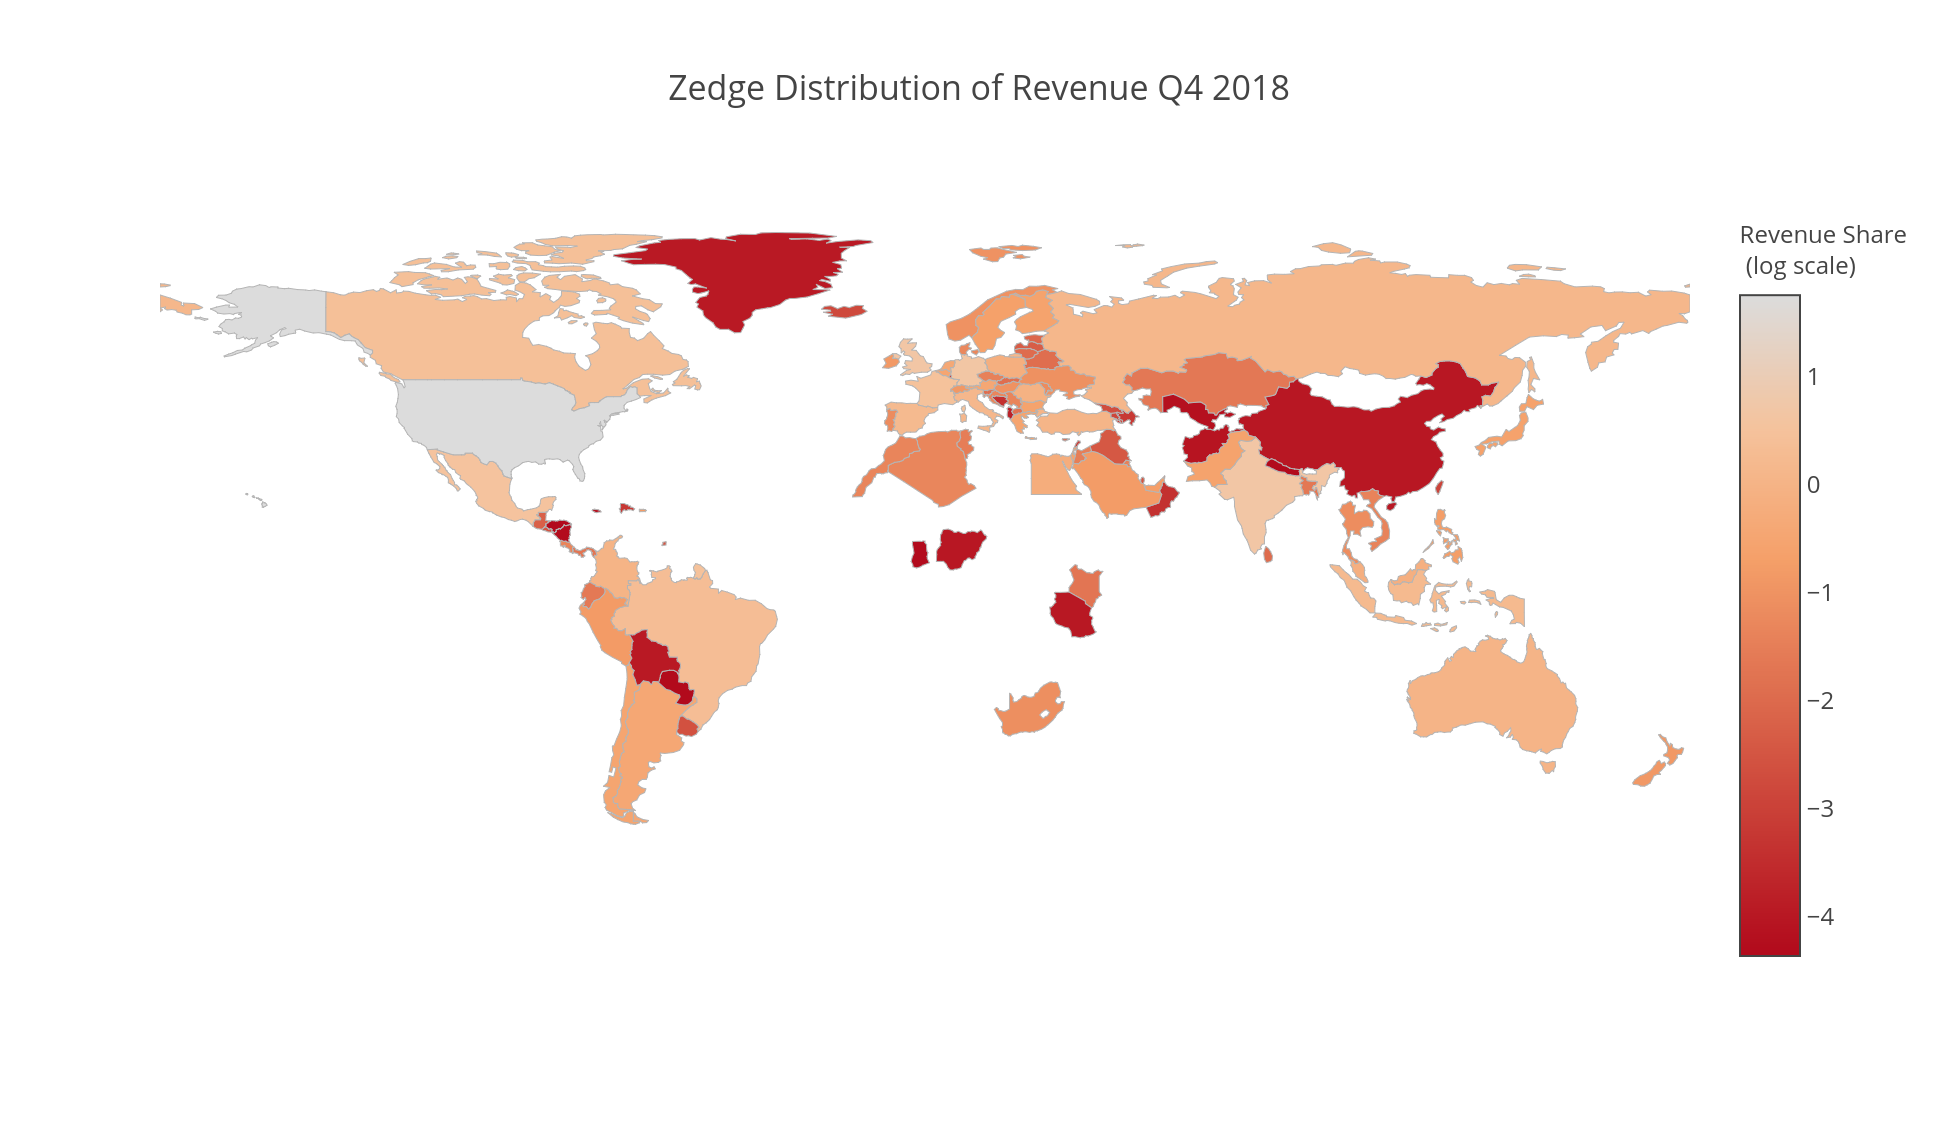

What the dashboard file says about the page in this screenshot:
{"tool":"tableau","page":{"name":"Dashboard 1","canvas":[1000,800],"ordinal":5},"visuals":[{"type":"worksheet","title":"Sheet 1","mark":"Automatic","rows":["DAU","Gross Revenue"],"cols":["Date"],"box":[0,0,996,800]},{"type":"legend","title":"Sheet 1","param":"[federated.09xt08w1sztwua14crw8u02qbj1c].[:Measure Names]","box":[132,111,317,75]}]}

Visuals, with their boxes on the page's 1000x800 design canvas (x1, y1, x2, y2). These are canvas units, not pixel positions in the 1958x1136 screenshot, which may show the page scaled, cropped or inside an application window:
"Sheet 1" worksheet: Rect(0, 0, 996, 800)
"Sheet 1" legend: Rect(132, 111, 449, 186)
